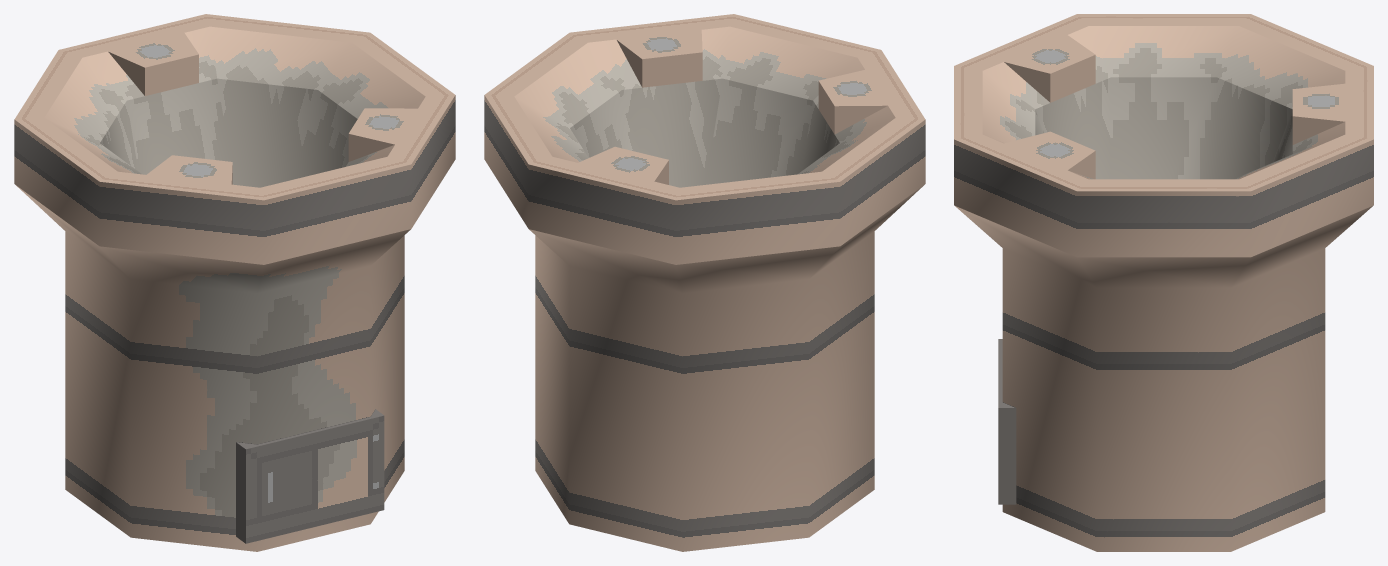
Rendered from 0146_Clay_Stove.glb.
3 renders of one model, left to right at view 1: azimuth 30°, elevation 25°; view 2: azimuth 150°, elevation 25°; view 3: azimuth 270°, elevation 25°, orthographic. The views are drawn at different scales.
Visible parts, largest first — view 1: part_0; view 2: part_0; view 3: part_0.
Boxes of the visible parts, x1=… form: part_0: x1=14, y1=14, x2=455, y2=551; part_0: x1=484, y1=14, x2=925, y2=551; part_0: x1=954, y1=14, x2=1373, y2=551.
Size of the model in its own units: 0.2883 by 0.2887 by 0.2883.
Materials: 1 (1 with a texture image).
